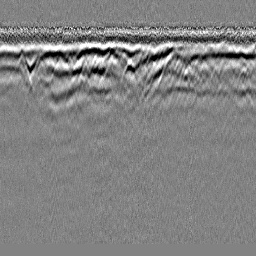cavity: (121, 57, 139, 83)
